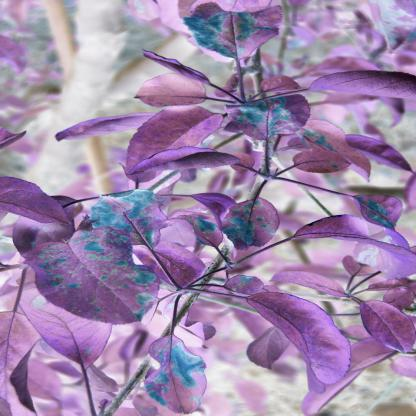Apple rust leaf: (19, 227, 169, 329), (174, 4, 295, 68), (230, 92, 338, 163), (139, 332, 224, 416), (88, 183, 165, 251), (217, 189, 284, 258), (345, 186, 407, 244), (218, 268, 273, 303)
